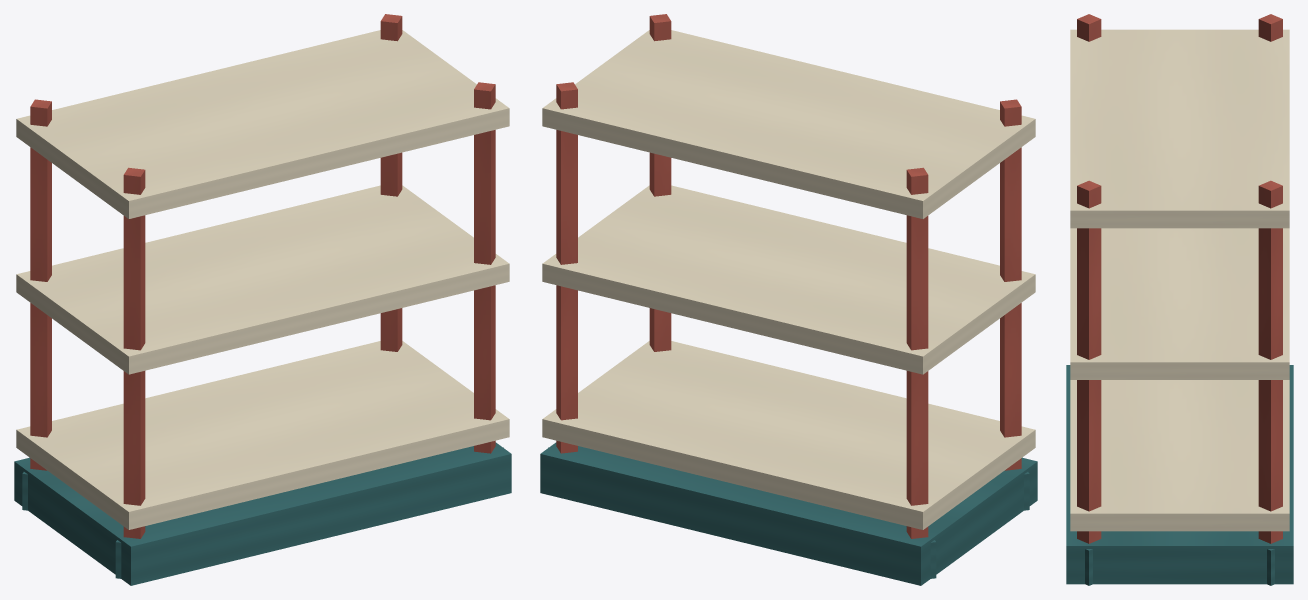
The model's file is atlas100-s035-a06.lod2.glb.
The picture shows the model from 3 angles, left to right: view 1: azimuth 30°, elevation 25°; view 2: azimuth 150°, elevation 25°; view 3: azimuth 270°, elevation 25°; orthographic projection. The views are drawn at different scales.
Visible parts, largest first — view 1: atlas100-s035-a06:part-013, atlas100-s035-a06:part-011, atlas100-s035-a06:part-012, atlas100-s035-a06:part-000, atlas100-s035-a06:part-005, atlas100-s035-a06:part-009, atlas100-s035-a06:part-003, atlas100-s035-a06:part-007; view 2: atlas100-s035-a06:part-013, atlas100-s035-a06:part-011, atlas100-s035-a06:part-012, atlas100-s035-a06:part-000, atlas100-s035-a06:part-003, atlas100-s035-a06:part-007, atlas100-s035-a06:part-005, atlas100-s035-a06:part-009; view 3: atlas100-s035-a06:part-013, atlas100-s035-a06:part-011, atlas100-s035-a06:part-012, atlas100-s035-a06:part-000, atlas100-s035-a06:part-007, atlas100-s035-a06:part-009, atlas100-s035-a06:part-003, atlas100-s035-a06:part-005.
Boxes of the visible parts, x1,y1,x2,y2 form: atlas100-s035-a06:part-013: [16, 30, 509, 218]; atlas100-s035-a06:part-011: [16, 341, 509, 529]; atlas100-s035-a06:part-012: [16, 185, 509, 374]; atlas100-s035-a06:part-000: [14, 442, 511, 585]; atlas100-s035-a06:part-005: [123, 167, 145, 538]; atlas100-s035-a06:part-009: [474, 82, 495, 453]; atlas100-s035-a06:part-003: [30, 99, 51, 470]; atlas100-s035-a06:part-007: [380, 14, 402, 351]; atlas100-s035-a06:part-013: [542, 30, 1035, 218]; atlas100-s035-a06:part-011: [542, 341, 1035, 529]; atlas100-s035-a06:part-012: [542, 185, 1035, 374]; atlas100-s035-a06:part-000: [540, 442, 1037, 585]; atlas100-s035-a06:part-003: [906, 167, 928, 538]; atlas100-s035-a06:part-007: [556, 82, 577, 453]; atlas100-s035-a06:part-005: [1000, 99, 1021, 470]; atlas100-s035-a06:part-009: [649, 14, 671, 351]; atlas100-s035-a06:part-013: [1070, 29, 1289, 228]; atlas100-s035-a06:part-011: [1070, 380, 1289, 531]; atlas100-s035-a06:part-012: [1070, 228, 1289, 379]; atlas100-s035-a06:part-000: [1066, 365, 1293, 584]; atlas100-s035-a06:part-007: [1258, 180, 1282, 543]; atlas100-s035-a06:part-009: [1077, 180, 1101, 543]; atlas100-s035-a06:part-003: [1258, 14, 1282, 41]; atlas100-s035-a06:part-005: [1077, 14, 1101, 41].
Size of the model in its own units: 2.69 by 2.66 by 1.4.
Materials: 3 (3 with a texture image).
